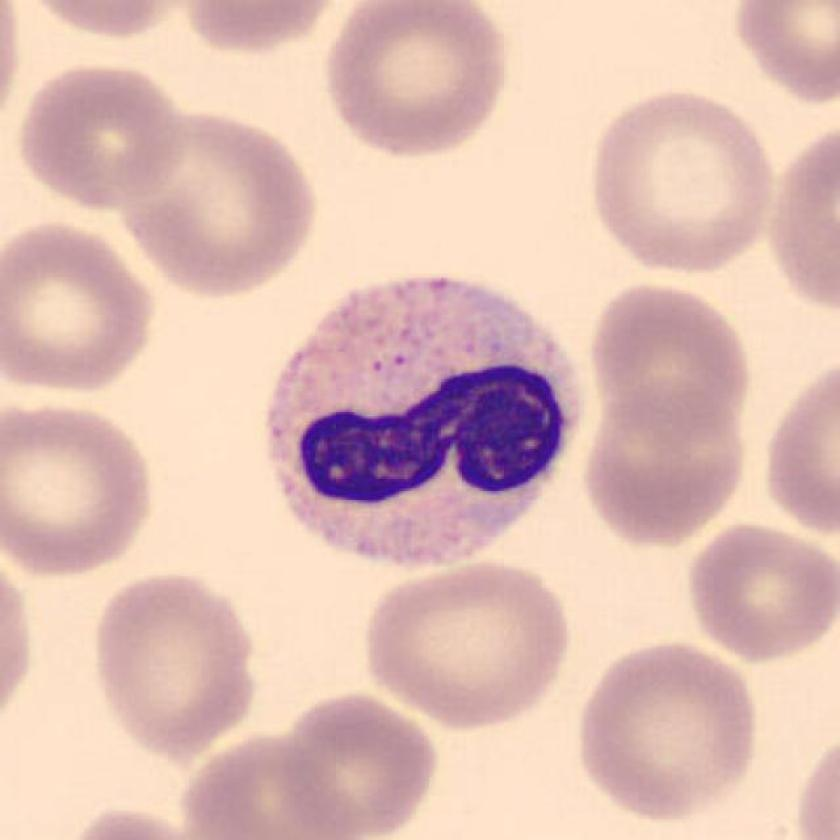neutrophil: (272, 278, 578, 561)
